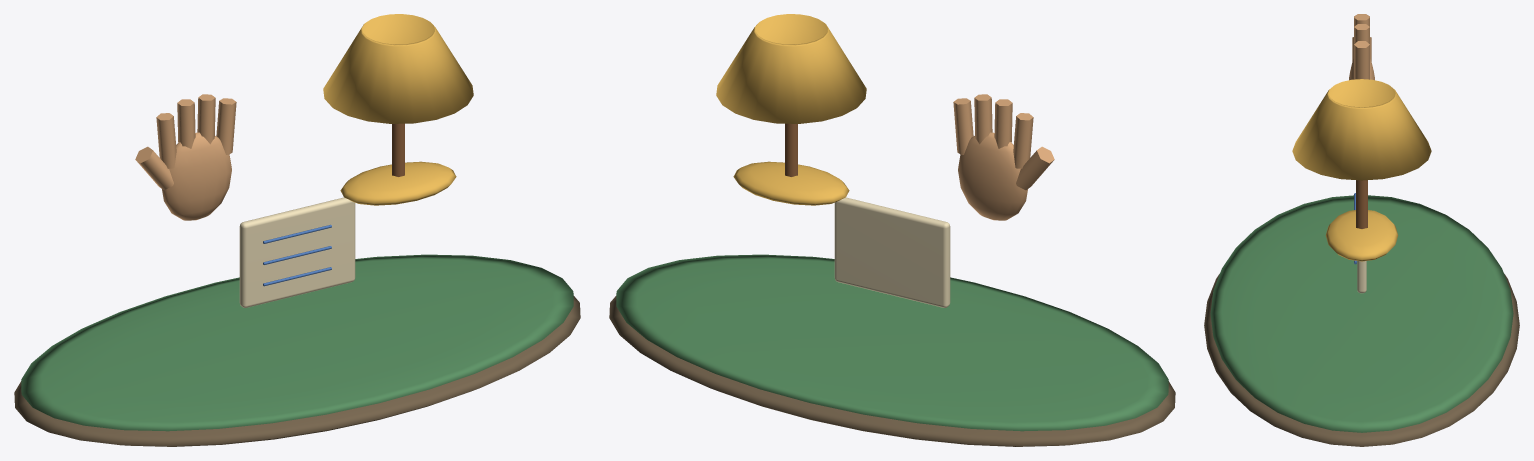
Rendered from complete-second-pressed-lit-guide.glb.
The picture shows the model from 3 angles, left to right: view 1: azimuth 30°, elevation 25°; view 2: azimuth 150°, elevation 25°; view 3: azimuth 270°, elevation 25°; orthographic projection. The views are drawn at different scales.
Parts seen in each view (by area): view 1: complete-second-pressed-lit-guide_surface_01, complete-second-pressed-lit-guide_surface_03, complete-second-pressed-lit-guide_surface_00, complete-second-pressed-lit-guide_surface_05, complete-second-pressed-lit-guide_surface_02, complete-second-pressed-lit-guide_surface_06, complete-second-pressed-lit-guide_surface_04; view 2: complete-second-pressed-lit-guide_surface_01, complete-second-pressed-lit-guide_surface_03, complete-second-pressed-lit-guide_surface_05, complete-second-pressed-lit-guide_surface_00, complete-second-pressed-lit-guide_surface_02, complete-second-pressed-lit-guide_surface_04; view 3: complete-second-pressed-lit-guide_surface_01, complete-second-pressed-lit-guide_surface_03, complete-second-pressed-lit-guide_surface_00, complete-second-pressed-lit-guide_surface_02, complete-second-pressed-lit-guide_surface_04, complete-second-pressed-lit-guide_surface_05.
Part boxes in pixels (bbox=[...]): complete-second-pressed-lit-guide_surface_01: bbox=[21, 254, 573, 431]; complete-second-pressed-lit-guide_surface_03: bbox=[323, 14, 473, 205]; complete-second-pressed-lit-guide_surface_00: bbox=[14, 296, 580, 446]; complete-second-pressed-lit-guide_surface_05: bbox=[239, 197, 355, 307]; complete-second-pressed-lit-guide_surface_02: bbox=[135, 94, 236, 220]; complete-second-pressed-lit-guide_surface_06: bbox=[263, 224, 331, 286]; complete-second-pressed-lit-guide_surface_04: bbox=[392, 123, 404, 176]; complete-second-pressed-lit-guide_surface_01: bbox=[616, 254, 1168, 431]; complete-second-pressed-lit-guide_surface_03: bbox=[716, 14, 866, 205]; complete-second-pressed-lit-guide_surface_05: bbox=[834, 197, 950, 307]; complete-second-pressed-lit-guide_surface_00: bbox=[609, 296, 1175, 446]; complete-second-pressed-lit-guide_surface_02: bbox=[953, 94, 1054, 220]; complete-second-pressed-lit-guide_surface_04: bbox=[785, 123, 797, 176]; complete-second-pressed-lit-guide_surface_01: bbox=[1210, 195, 1513, 432]; complete-second-pressed-lit-guide_surface_03: bbox=[1292, 79, 1431, 261]; complete-second-pressed-lit-guide_surface_00: bbox=[1204, 274, 1519, 446]; complete-second-pressed-lit-guide_surface_02: bbox=[1349, 14, 1374, 80]; complete-second-pressed-lit-guide_surface_04: bbox=[1356, 180, 1367, 228]; complete-second-pressed-lit-guide_surface_05: bbox=[1357, 261, 1366, 293].
Size of the model in its own units: 4.56 by 2.55 by 2.5.
